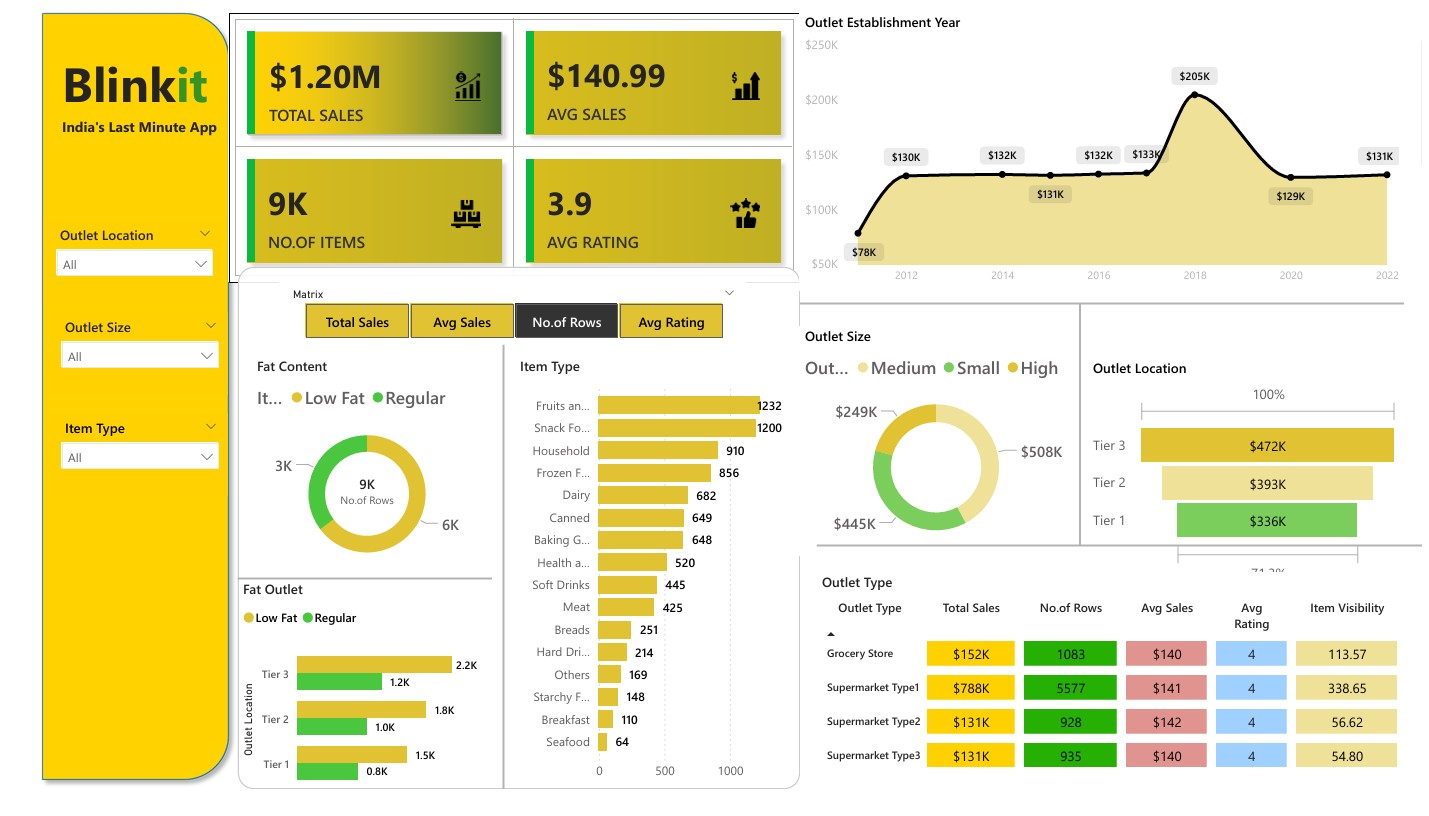

Layout of this report page (visuals, bound fields, positions):
{"tool":"powerbi","page":{"name":"Page 1","canvas":[1400,800],"ordinal":0},"visuals":[{"type":"shape","box":[10.6,0,205,784.7],"z":0},{"type":"textbox","box":[24.7,40.6,176.7,84.8],"z":1000},{"type":"textbox","box":[24.7,107.8,185.6,35.3],"z":2000},{"type":"cardVisual","fields":{"Data":["BlinkIT Grocery Data.Total Sales","BlinkIT Grocery Data.Avg Sales","BlinkIT Grocery Data.No.of Rows","BlinkIT Grocery Data.Avg Rating"]},"box":[206.8,8.8,570.9,270.4],"z":3000},{"type":"shape","box":[215.6,263.3,562,521.4],"z":4000},{"type":"donutChart","title":"Fat Content","fields":{"Y":["BlinkIT Grocery Data.No.of Rows"],"Category":["BlinkIT Grocery Data.Item Fat Content"]},"box":[229.8,353.5,229.8,222.7],"z":5000},{"type":"slicer","fields":{"Values":["Matrix.Matrix"]},"box":[258,279.2,466.6,61.9],"z":6000},{"type":"cardVisual","fields":{"Data":["BlinkIT Grocery Data.No.of Rows"]},"box":[291.6,452.4,106,68.9],"z":7000},{"type":"clusteredBarChart","title":"Fat Outlet","fields":{"Y":["BlinkIT Grocery Data.No.of Rows"],"Category":["BlinkIT Grocery Data.Outlet Location Type"],"Series":["BlinkIT Grocery Data.Item Fat Content"]},"box":[215.6,576.2,243.9,224.5],"z":8000},{"type":"shape","box":[215.6,563.8,254.5,21.2],"z":9000},{"type":"shape","box":[470.1,341.1,23,443.6],"z":10000},{"type":"barChart","title":"Item Type","fields":{"Y":["BlinkIT Grocery Data.No.of Rows"],"Category":["BlinkIT Grocery Data.Item Type"]},"box":[493.1,353.5,284.5,431.2],"z":11000},{"type":"lineChart","title":"Outlet Establishment Year","fields":{"Y":["BlinkIT Grocery Data.Total Sales"],"Category":["BlinkIT Grocery Data.Outlet Establishment Year"]},"box":[777.6,8.8,604.4,279.2],"z":12000},{"type":"shape","box":[777.6,288.1,604.4,23],"z":13000},{"type":"donutChart","title":"Outlet Size","fields":{"Y":["BlinkIT Grocery Data.Total Sales"],"Category":["BlinkIT Grocery Data.Outlet Size"]},"box":[777.6,323.4,272.2,229.8],"z":14000},{"type":"funnel","title":" Outlet Location ","fields":{"Y":["BlinkIT Grocery Data.Total Sales"],"Category":["BlinkIT Grocery Data.Outlet Location Type"]},"box":[1065.7,355.2,316.4,229.8],"z":15000},{"type":"shape","box":[795.3,530.2,604.4,23],"z":16000},{"type":"pivotTable","title":"Outlet Type","fields":{"Rows":["BlinkIT Grocery Data.Outlet Type"],"Values":["BlinkIT Grocery Data.Total Sales","BlinkIT Grocery Data.No.of Rows","BlinkIT Grocery Data.Avg Sales","BlinkIT Grocery Data.Avg Rating","Sum(BlinkIT Grocery Data.Item Visibility)"]},"box":[795.3,569.1,586.8,231.5],"z":17000},{"type":"shape","box":[1049.8,300.4,15.9,240.4],"z":18000},{"type":"slicer","fields":{"Values":["BlinkIT Grocery Data.Outlet Location"]},"box":[24.7,217.4,176.7,83.1],"z":19000},{"type":"slicer","fields":{"Values":["BlinkIT Grocery Data.Outlet Size"]},"box":[30,309.3,176.7,83.1],"z":20000},{"type":"slicer","fields":{"Values":["BlinkIT Grocery Data.Item Type"]},"box":[30,410,176.7,83.1],"z":21000}]}

Visuals, with their boxes in screenshot pixels (x1, y1, x2, y2), scaled from the page's 1400x800 canvas onto the 1429x816 screenshot:
shape: [11,0,220,800]
textbox: [25,41,206,128]
textbox: [25,110,215,146]
cardVisual - BlinkIT Grocery Data.Total Sales x BlinkIT Grocery Data.Avg Sales: [211,9,794,285]
shape: [220,269,794,800]
"Fat Content" donutChart: [235,361,469,588]
slicer - Matrix.Matrix: [263,285,740,348]
cardVisual - BlinkIT Grocery Data.No.of Rows: [298,461,406,532]
"Fat Outlet" clusteredBarChart: [220,588,469,815]
shape: [220,575,480,597]
shape: [480,348,503,800]
"Item Type" barChart: [503,361,794,800]
"Outlet Establishment Year" lineChart: [794,9,1411,294]
shape: [794,294,1411,317]
"Outlet Size" donutChart: [794,330,1072,564]
" Outlet Location " funnel: [1088,362,1411,597]
shape: [812,541,1428,564]
"Outlet Type" pivotTable: [812,580,1411,815]
shape: [1072,306,1088,552]
slicer - BlinkIT Grocery Data.Outlet Location: [25,222,206,307]
slicer - BlinkIT Grocery Data.Outlet Size: [31,315,211,400]
slicer - BlinkIT Grocery Data.Item Type: [31,418,211,503]
